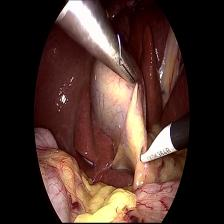Grasper: (105, 27, 145, 94)
Hook: (137, 122, 180, 170)
